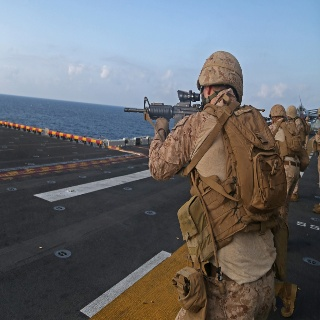rifle: (125, 89, 208, 127)
